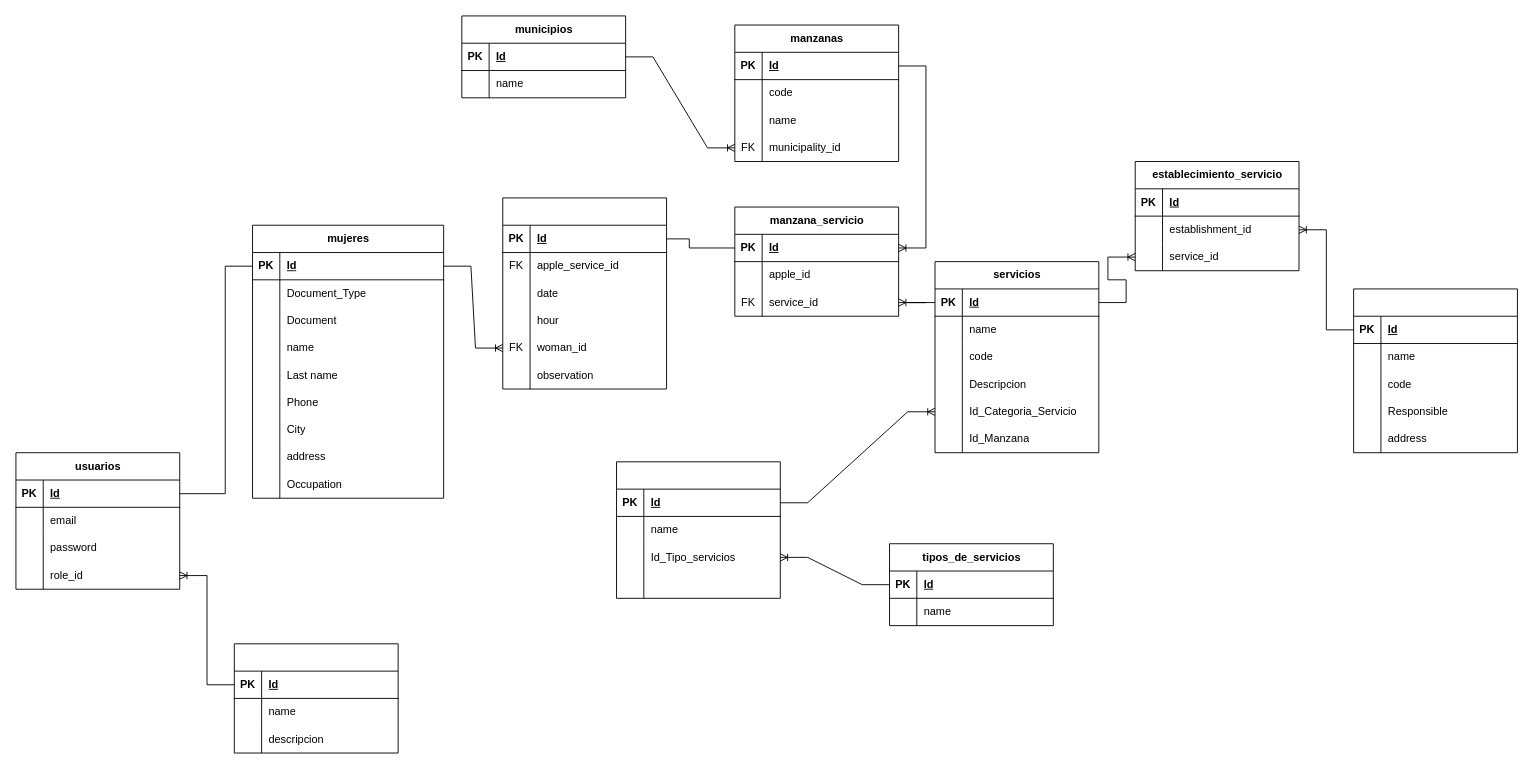
This 1533x769 diagram has some shape labels left out. The shapes that lost their labels are listed below. From the top down, each one's box as (x1, y1, x2, y2) in pixels, then its label:
(502, 197, 667, 389): solicitud_de_servicio
(1353, 288, 1517, 453): establecimientos
(616, 461, 780, 598): categoiras_de_servicios
(233, 643, 398, 753): roles
